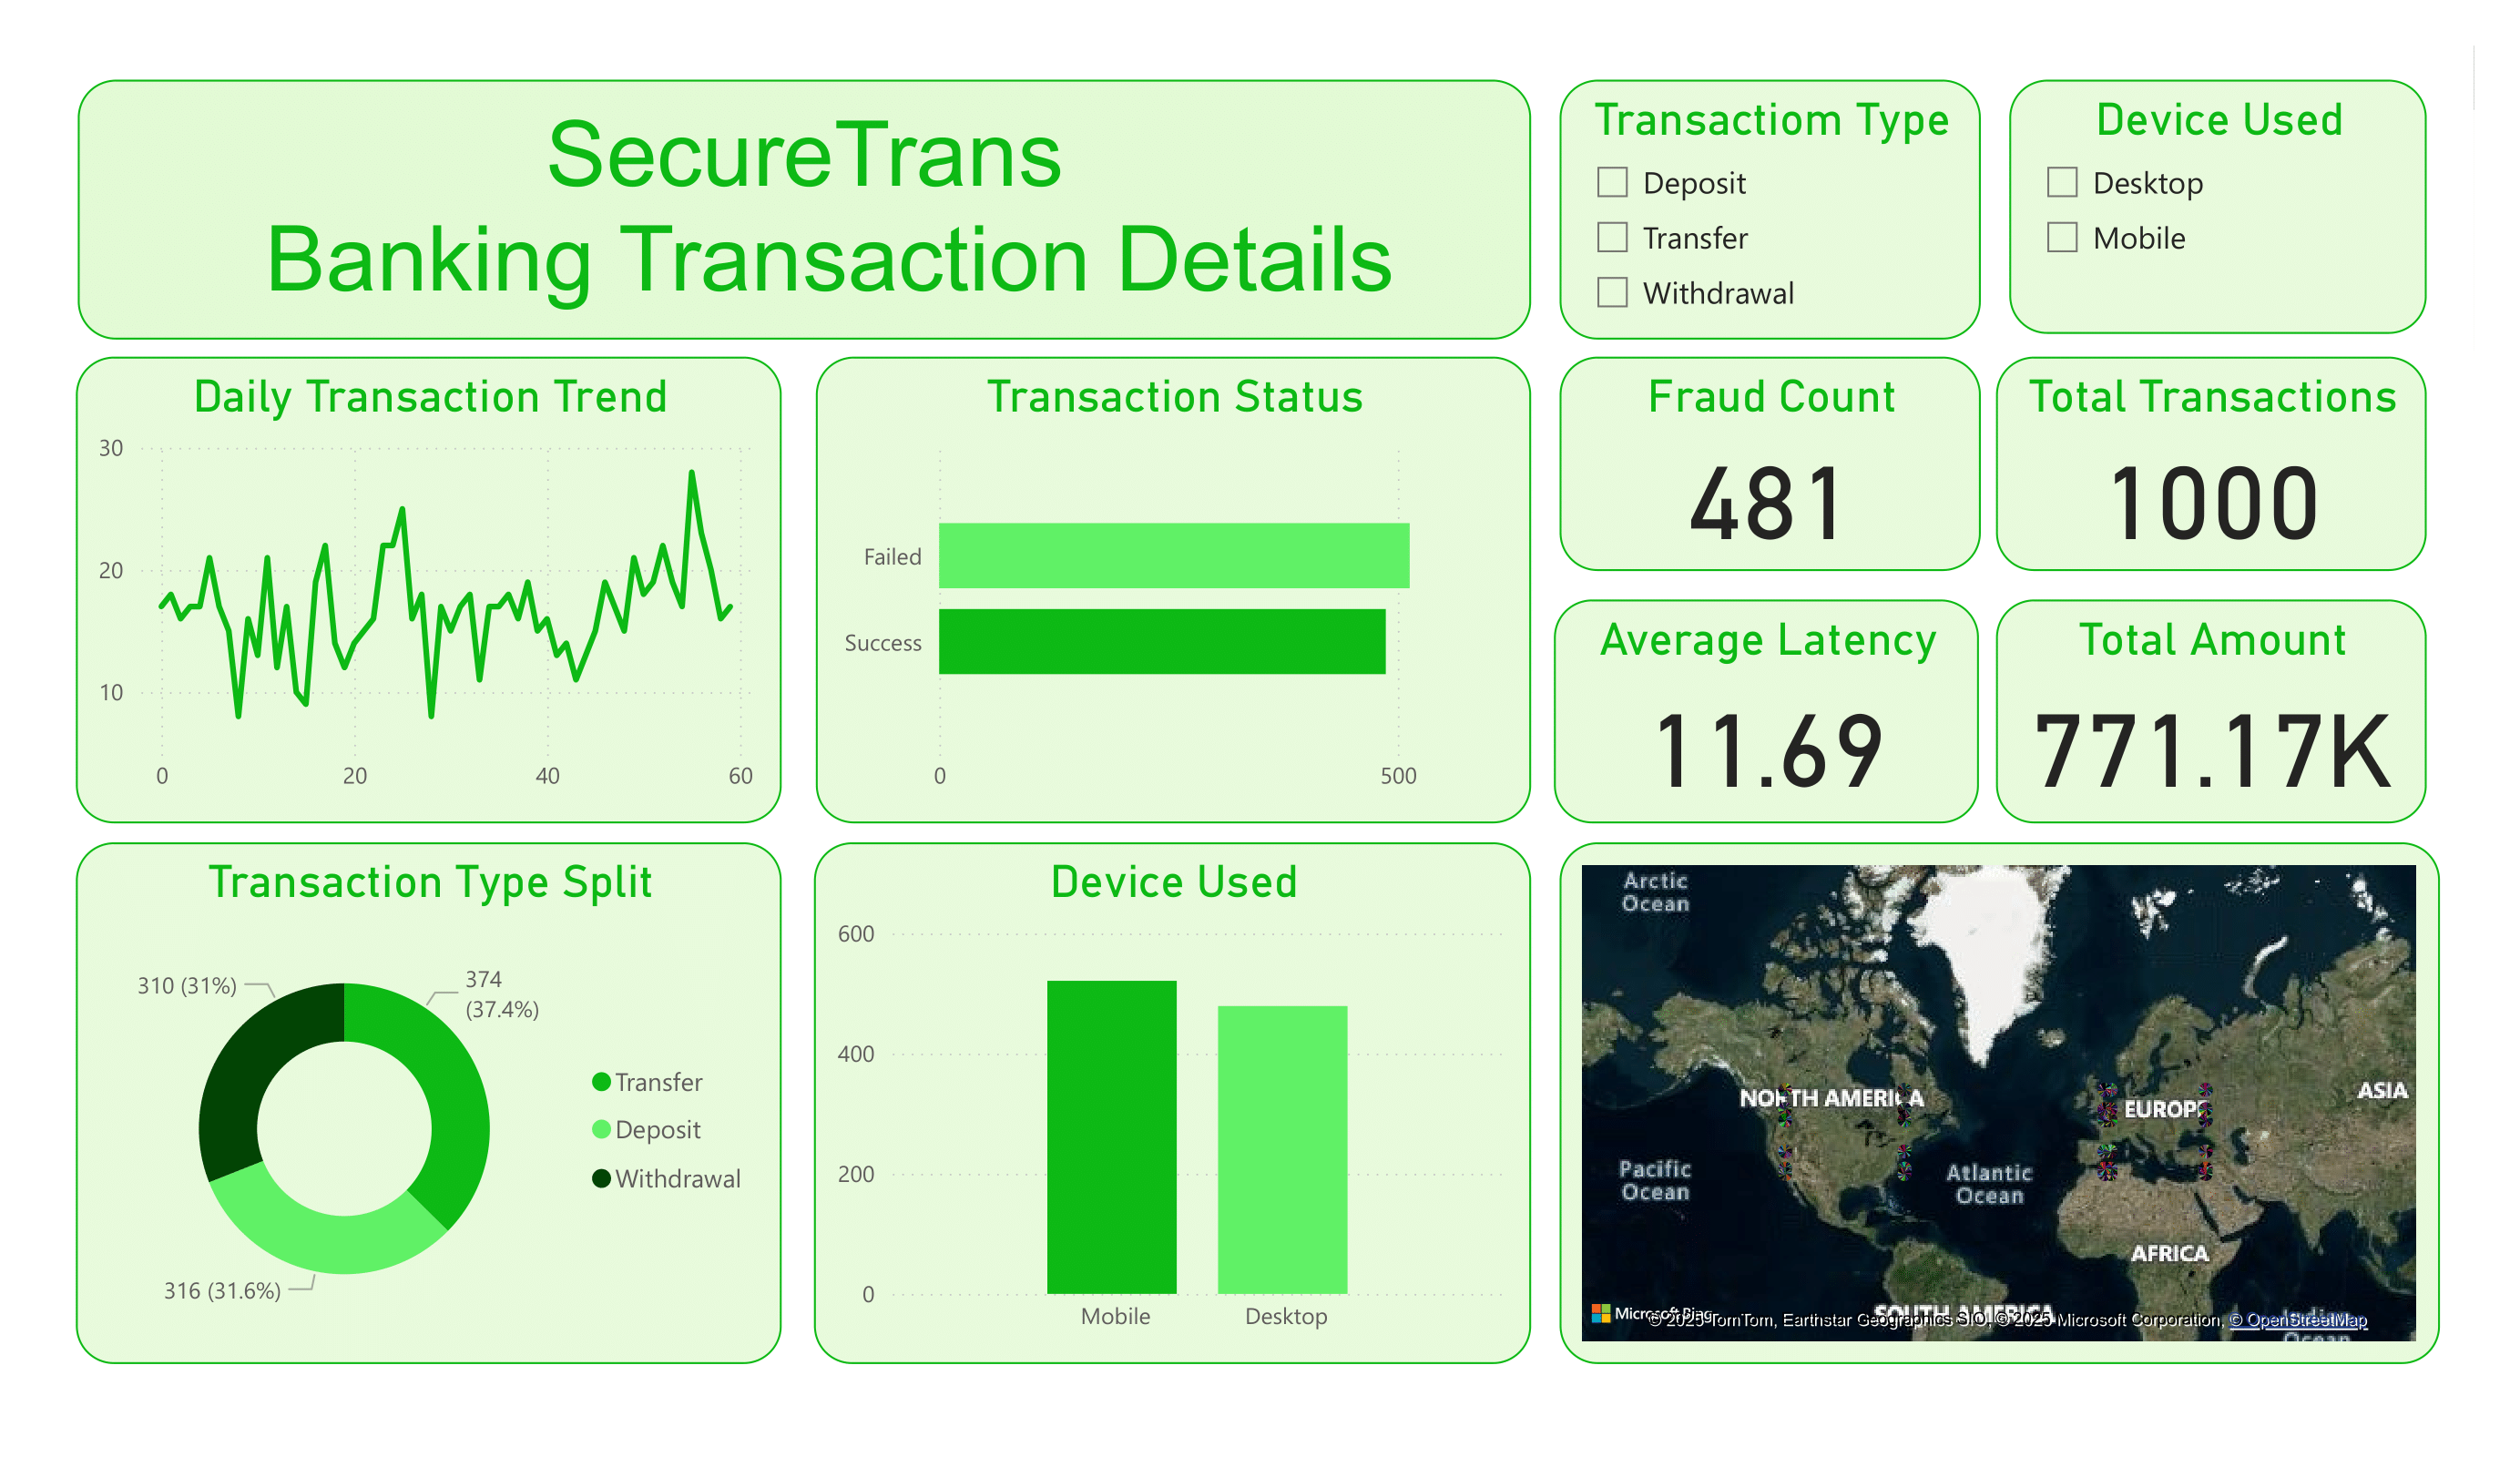

The page's visual inventory and layout, read from the dashboard file:
{"tool":"powerbi","page":{"name":"Overview Dashboard","canvas":[1280,720],"ordinal":0},"visuals":[{"type":"card","title":"Total Transactions","fields":{"Values":["Count(SecureTransaction_data.Transaction ID)"]},"box":[1027.8,163.7,227.1,113.5],"z":0},{"type":"card","title":"Total Amount","fields":{"Values":["Sum(SecureTransaction_data.Transaction Amount)"]},"box":[1027.8,292,227.1,118],"z":1000},{"type":"card","title":"Fraud Count","fields":{"Values":["SecureTransaction_data.Fraud Count"]},"box":[797.8,163.7,222.7,113.5],"z":2000},{"type":"card","title":"Average Latency","fields":{"Values":["Avg(SecureTransaction_data.Latency (ms))"]},"box":[794.8,292,224.1,118],"z":3000},{"type":"donutChart","title":"Transaction Type Split","fields":{"Y":["CountNonNull(SecureTransaction_data.Transaction ID)"],"Category":["SecureTransaction_data.Transaction Type"]},"box":[16.2,420.3,371.6,274.3],"z":4000},{"type":"clusteredBarChart","title":"Transaction Status","fields":{"Y":["CountNonNull(SecureTransaction_data.Transaction ID)"],"Category":["SecureTransaction_data.Transaction Status"]},"box":[405.5,163.7,377.5,246.3],"z":5000},{"type":"lineChart","title":"Daily Transaction Trend","fields":{"Category":["SecureTransaction_data.Minute"],"Y":["CountNonNull(SecureTransaction_data.Transaction ID)"]},"box":[16.2,163.7,371.6,246.3],"z":6000},{"type":"columnChart","title":"Device Used","fields":{"Category":["SecureTransaction_data.Device Used"],"Y":["CountNonNull(SecureTransaction_data.Transaction ID)"]},"box":[405,420,378.3,275],"z":7000},{"type":"map","title":"Total Amount","fields":{"Y":["SecureTransaction_data.Geolocation (Latitude)"],"X":["SecureTransaction_data.Geolocation (Longitude)"],"Series":["SecureTransaction_data.Transaction ID"]},"box":[798.3,420,463.3,275],"z":8000},{"type":"slicer","title":"Transactiom Type","fields":{"Values":["SecureTransaction_data.Transaction Type"]},"box":[798.3,18.3,221.7,136.7],"z":9000},{"type":"slicer","title":"Device Used","fields":{"Values":["SecureTransaction_data.Device Used"]},"box":[1035,18.3,220,133.3],"z":10000},{"type":"textbox","box":[16.7,18.3,766.7,136.7],"z":11000}]}

Visuals, with their boxes in screenshot pixels (x1, y1, x2, y2):
"Total Transactions" card: bbox(1996, 356, 2427, 572)
"Total Amount" card: bbox(1996, 599, 2427, 823)
"Fraud Count" card: bbox(1559, 356, 1982, 572)
"Average Latency" card: bbox(1554, 599, 1979, 823)
"Transaction Type Split" donutChart: bbox(77, 843, 781, 1363)
"Transaction Status" clusteredBarChart: bbox(815, 356, 1531, 823)
"Daily Transaction Trend" lineChart: bbox(77, 356, 781, 823)
"Device Used" columnChart: bbox(814, 842, 1532, 1364)
"Total Amount" map: bbox(1560, 842, 2440, 1364)
"Transactiom Type" slicer: bbox(1560, 80, 1981, 340)
"Device Used" slicer: bbox(2010, 80, 2427, 333)
textbox: bbox(77, 80, 1532, 340)
